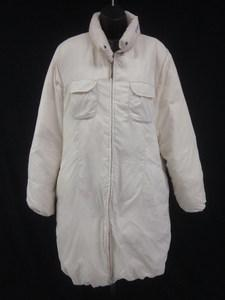C_jacket: (22, 7, 213, 292)
